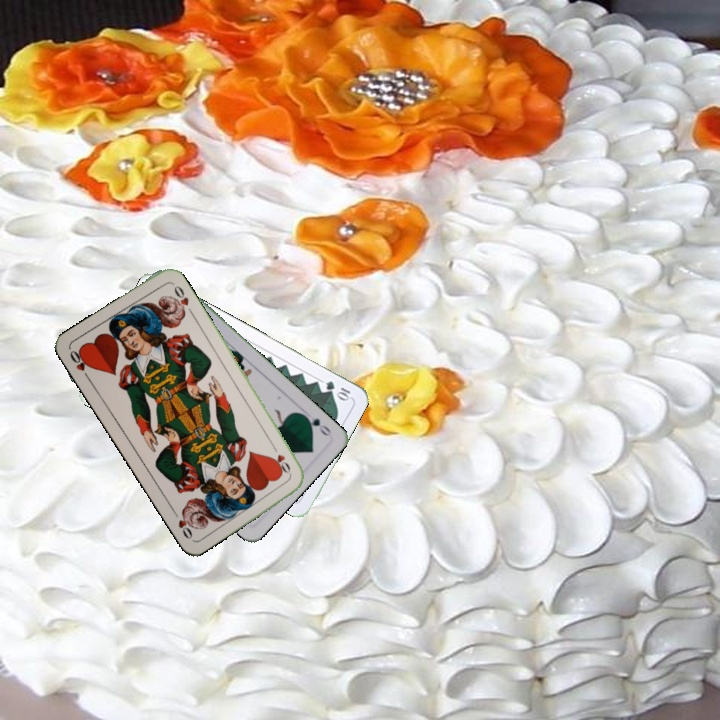G10: (321, 377, 353, 404)
GO: (298, 410, 334, 439)
HO: (66, 345, 94, 382), (268, 440, 294, 477)
